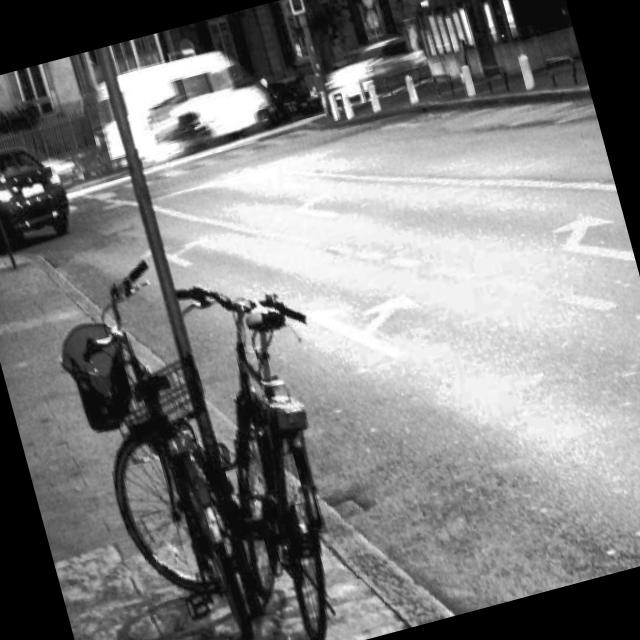Bicycle: (155, 231, 400, 640), (41, 237, 268, 640)
Car: (86, 31, 285, 183), (308, 14, 447, 121), (0, 124, 84, 278)
